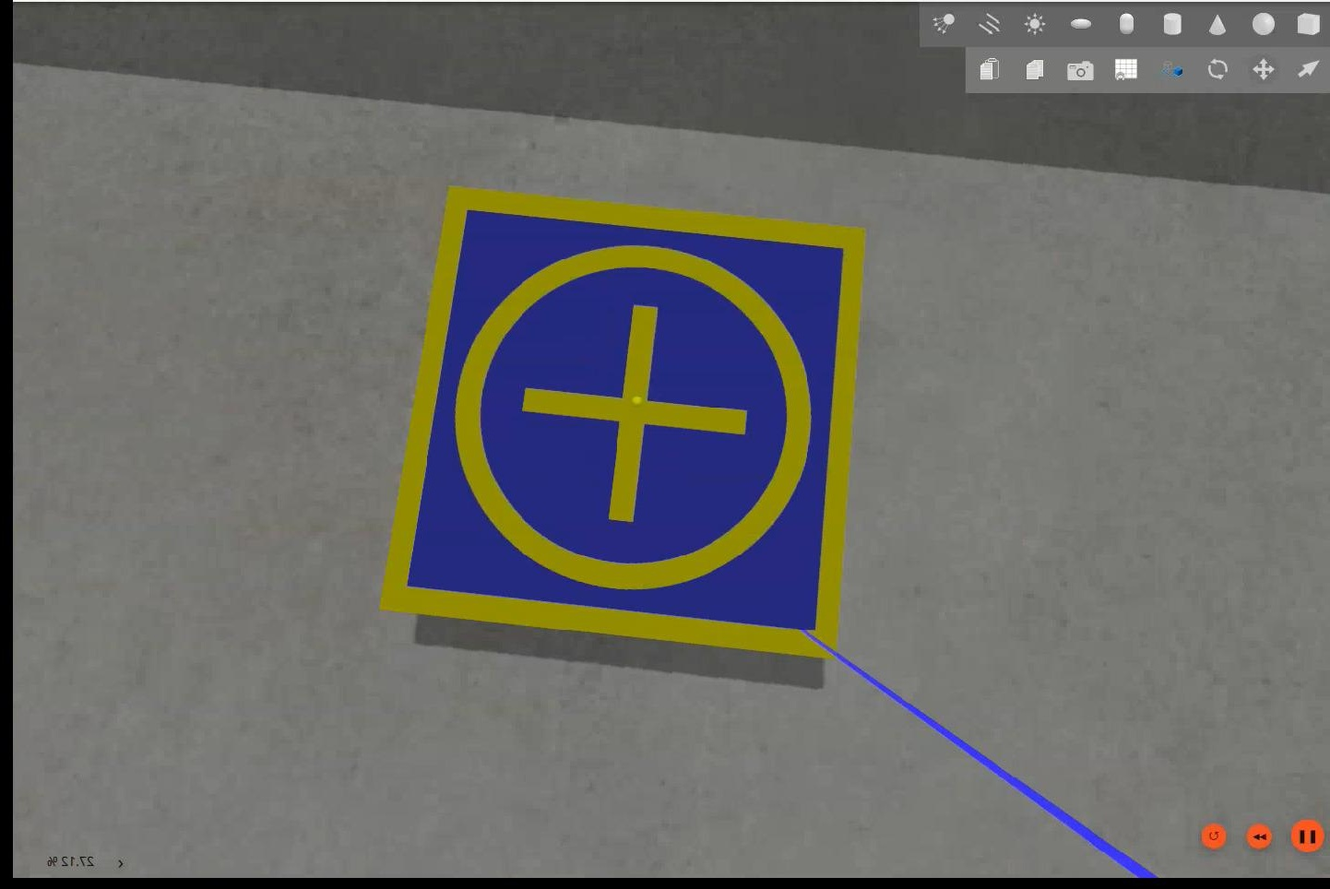small_base: (376, 186, 867, 660)
